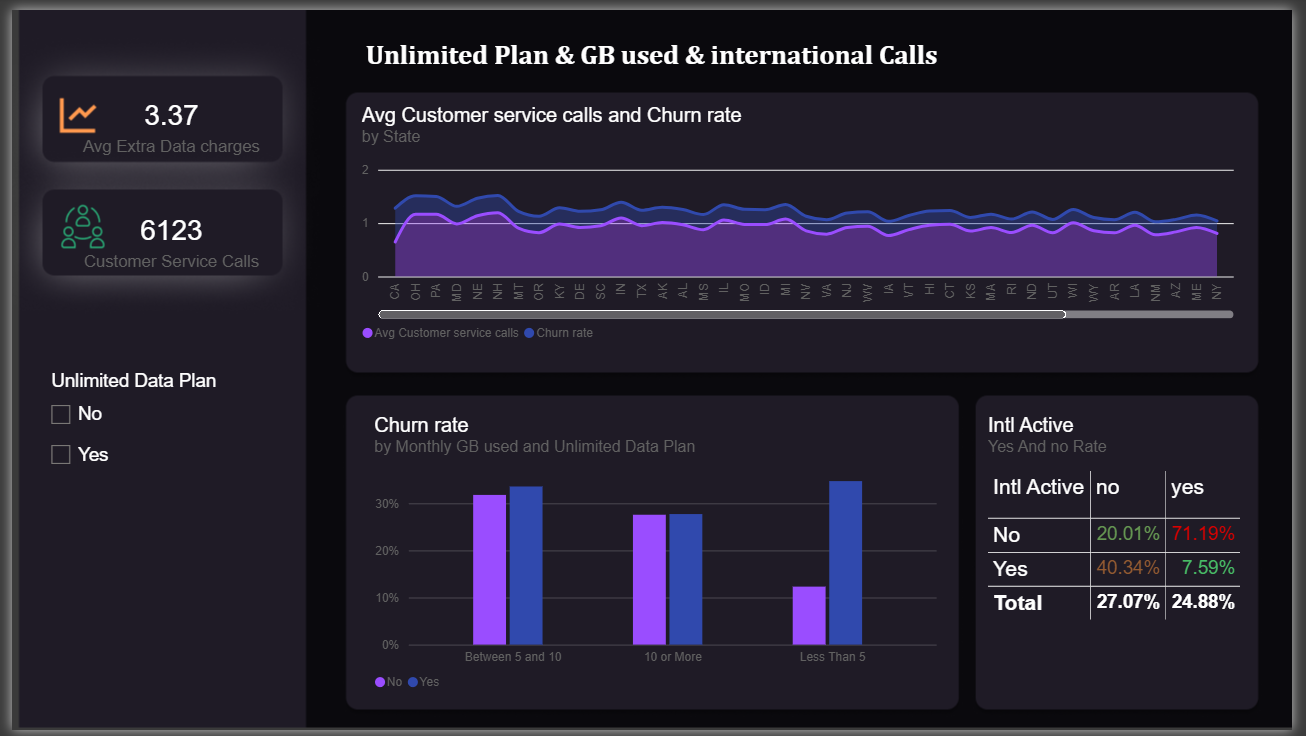

What the dashboard file says about the page in this screenshot:
{"tool":"powerbi","page":{"name":"Unlimited Plan & GB used & international Calls","canvas":[1280,720],"ordinal":3},"visuals":[{"type":"clusteredColumnChart","fields":{"Category":["Databel - Data.Monthly GB used"],"Series":["Databel - Data.Unlimited Data Plan"],"Y":["Databel - Data.Churn rate"]},"box":[345.7,388.6,594.3,312.9],"z":0},{"type":"pivotTable","title":"Intl Active","fields":{"Columns":["Databel - Data.Intl Plan"],"Rows":["Databel - Data.Intl Active"],"Values":["Databel - Data.Churn rate"]},"box":[960,388.5,290,298.5],"z":1000},{"type":"card","fields":{"Values":["Databel - Data.Avg Extra Data charges"]},"box":[31.2,53.8,256.2,122.5],"z":2000},{"type":"card","fields":{"Values":["Sum(Databel - Data.Customer Service Calls)"]},"box":[31.2,161.2,256.2,137.5],"z":3000},{"type":"slicer","fields":{"Values":["Databel - Data.Unlimited Data Plan"]},"box":[31.2,360,227.5,162.5],"z":4000},{"type":"stackedAreaChart","fields":{"Category":["Databel - Data.State"],"Y":["Databel - Data.Avg Customer service calls","Databel - Data.Churn rate"]},"box":[333.8,78.8,903.8,273.8],"z":5000},{"type":"textbox","box":[353.8,28.8,617.5,36.2],"z":5001}]}

Visuals, with their boxes in screenshot pixels (x1, y1, x2, y2), scaled from the page's 1280x720 canvas onto the 1306x736 screenshot:
clusteredColumnChart - Databel - Data.Monthly GB used x Databel - Data.Unlimited Data Plan: <region>353, 397, 959, 717</region>
"Intl Active" pivotTable: <region>980, 397, 1275, 702</region>
card - Databel - Data.Avg Extra Data charges: <region>32, 55, 293, 180</region>
card - Sum(Databel - Data.Customer Service Calls): <region>32, 165, 293, 305</region>
slicer - Databel - Data.Unlimited Data Plan: <region>32, 368, 264, 534</region>
stackedAreaChart - Databel - Data.State x Databel - Data.Avg Customer service calls: <region>341, 81, 1263, 360</region>
textbox: <region>361, 29, 991, 66</region>
